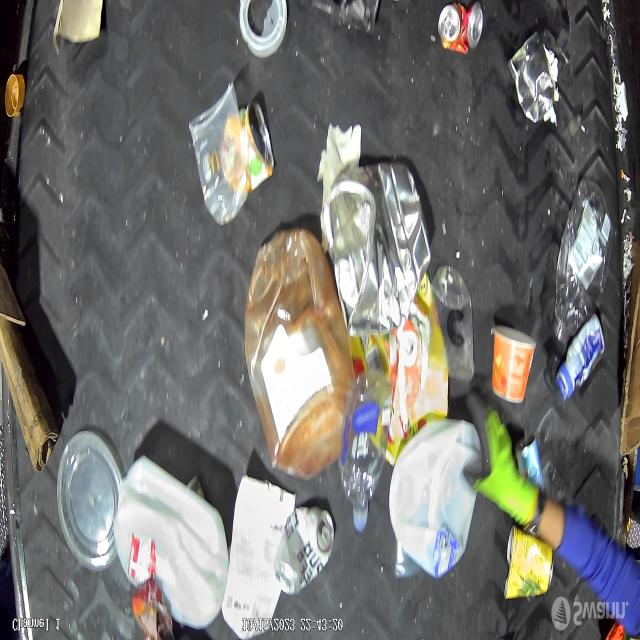can: (325, 162, 432, 339), (273, 506, 334, 594), (507, 31, 554, 124), (506, 525, 556, 600), (240, 100, 276, 194), (438, 0, 483, 55), (515, 436, 543, 470)
milk_jug: (122, 455, 229, 630), (389, 418, 481, 582)
non_white_jug: (244, 228, 356, 480)
plastic_bottle: (554, 182, 612, 348), (339, 362, 386, 534)
